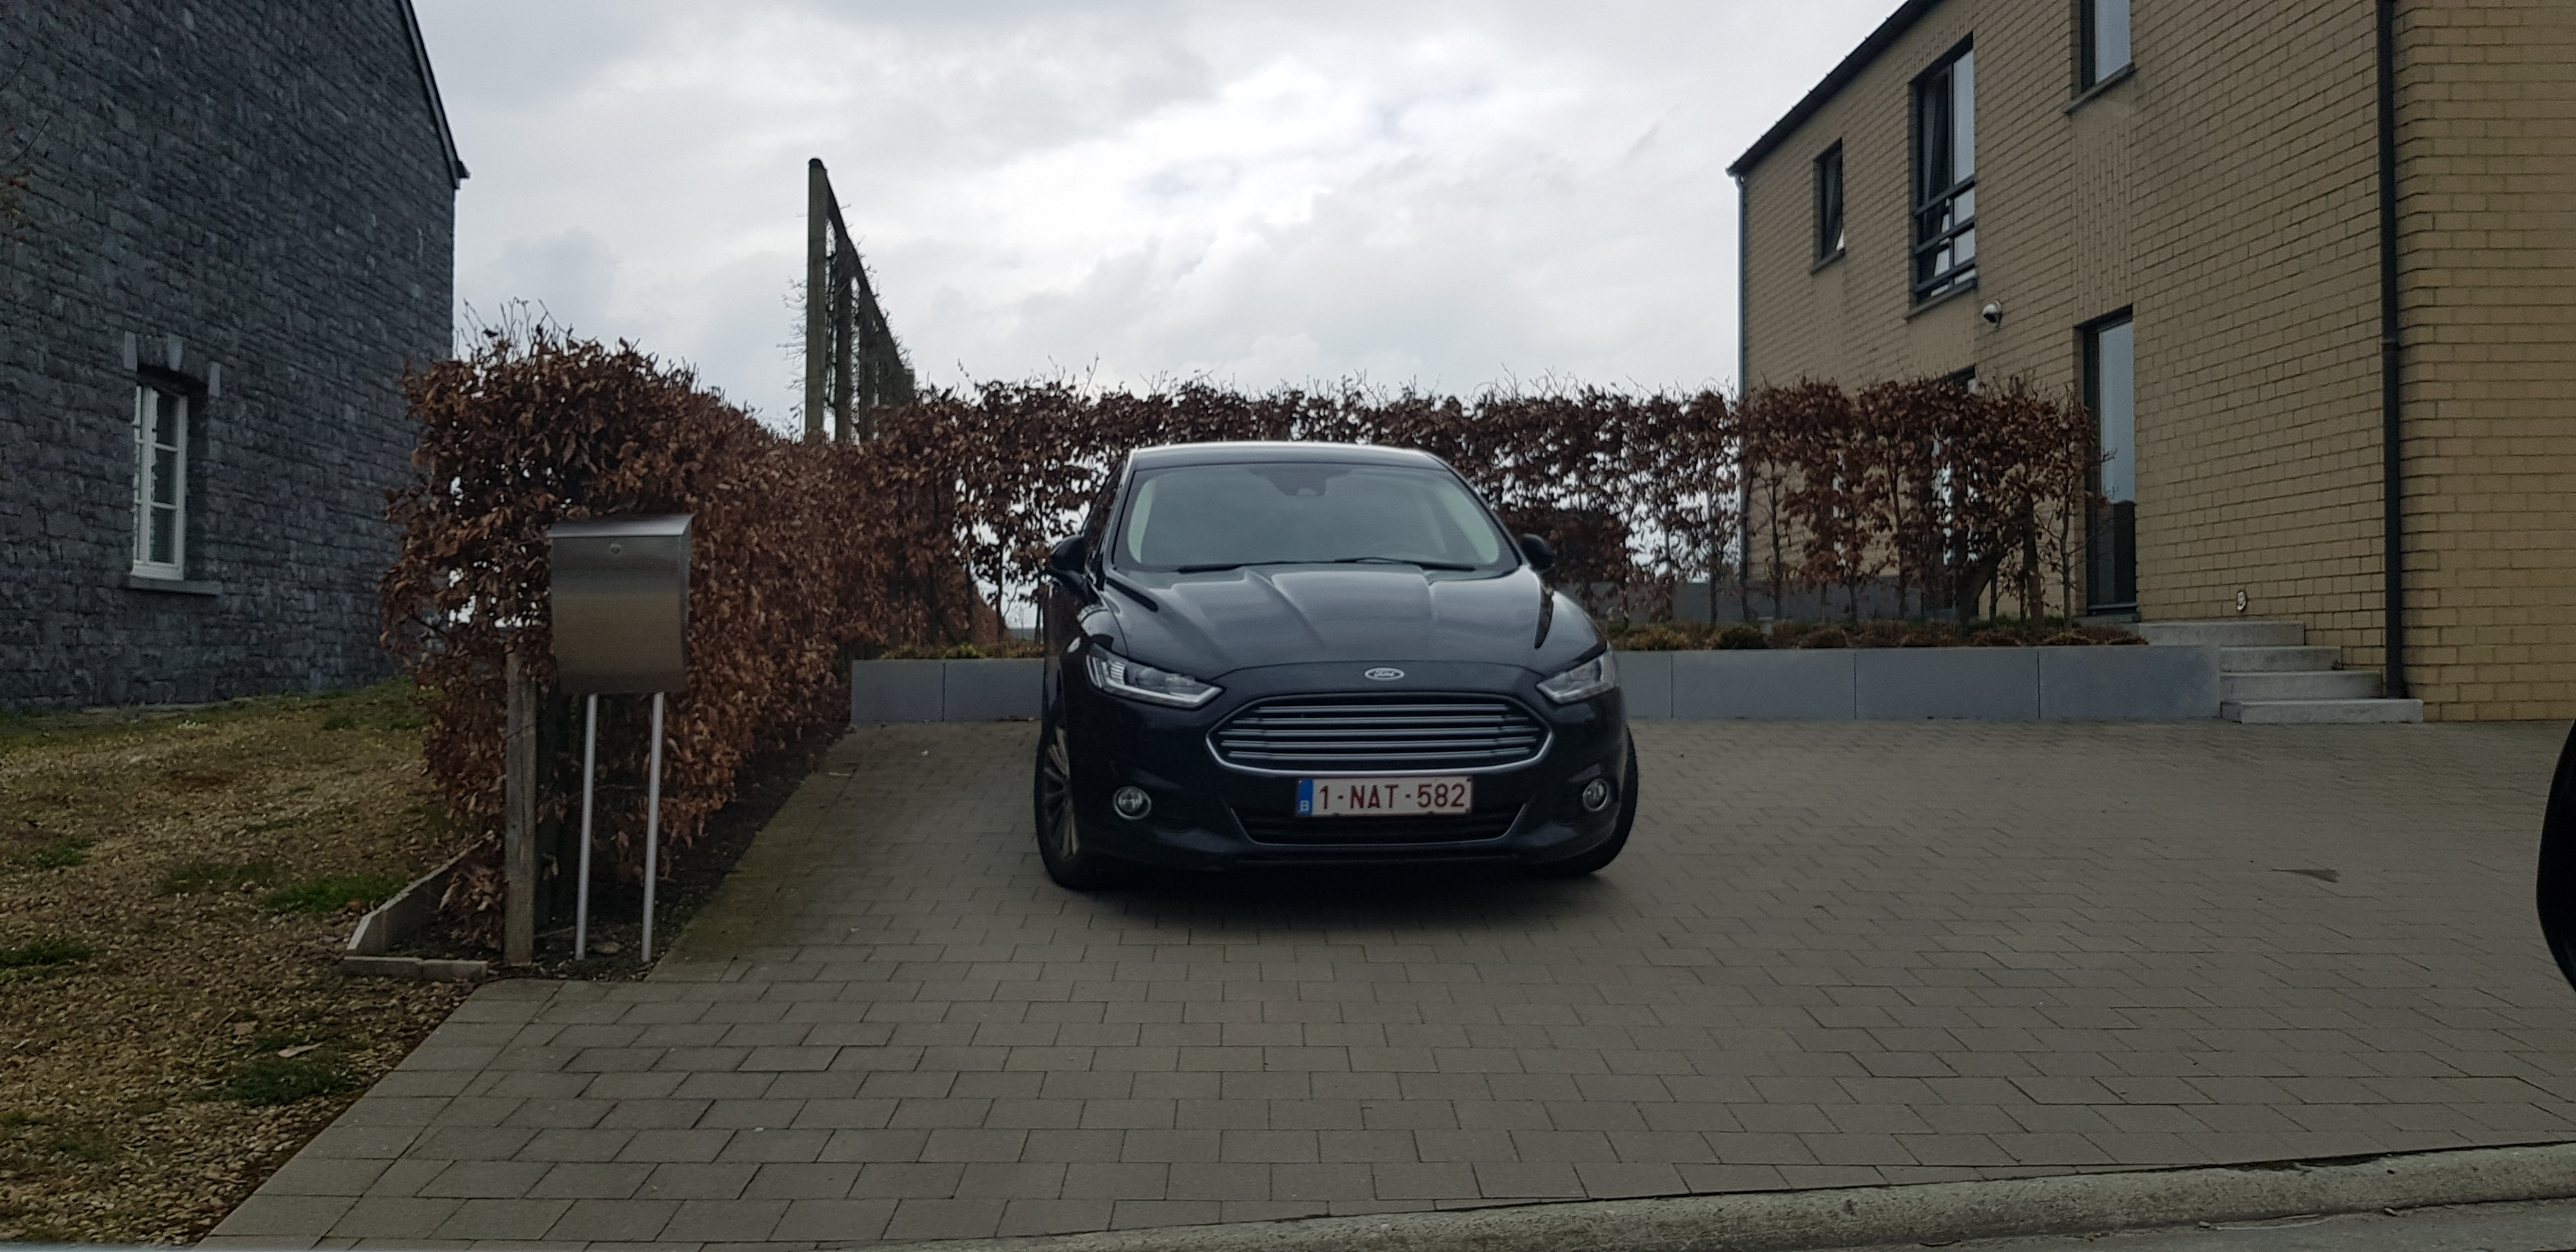licenceplate: (1296, 775, 1473, 818)
